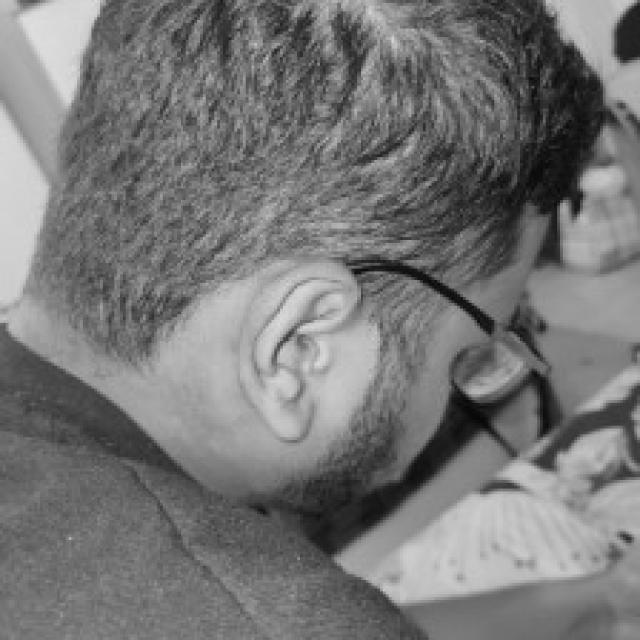ear: (240, 260, 366, 440)
